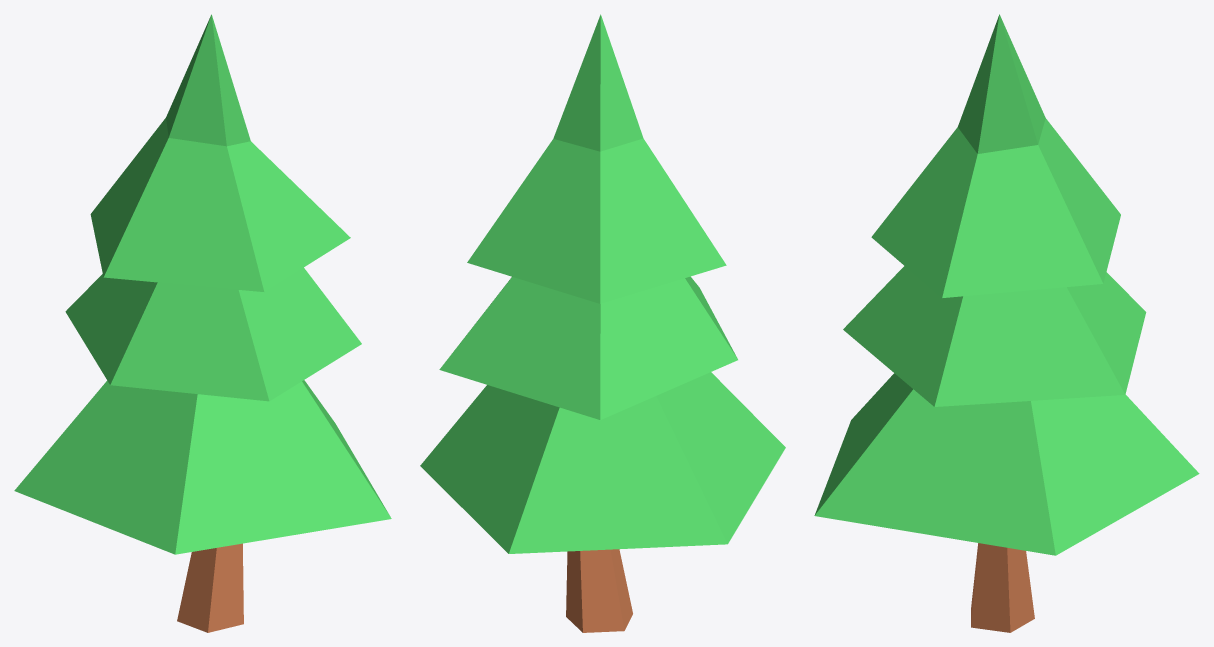
The model's file is Tree1.glb.
3 renders of one model, left to right at view 1: azimuth 30°, elevation 25°; view 2: azimuth 150°, elevation 25°; view 3: azimuth 270°, elevation 25°, orthographic.
Parts seen in each view (by area): view 1: Circle; view 2: Circle; view 3: Circle.
Part boxes in pixels (x1=…): Circle: x1=14, y1=14, x2=391, y2=632; Circle: x1=420, y1=14, x2=785, y2=632; Circle: x1=814, y1=14, x2=1199, y2=632.
Size of the model in its own units: 1.13 by 2.07 by 1.19.
